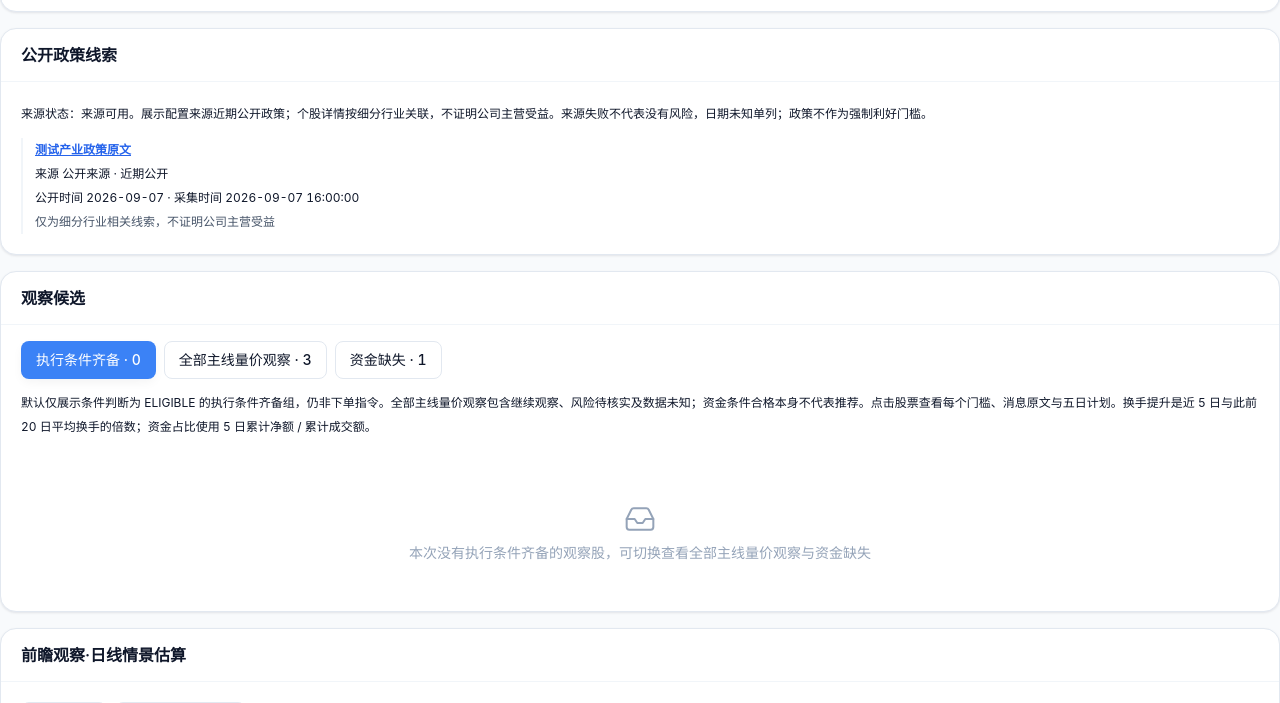
Test: FiveDayPage observation workflow › displays announcement risk and separate evidence publication and collection times
(page scrolled)
Click the button "全部主线量价观察 · 3": (245, 360) [164, 341, 327, 379]
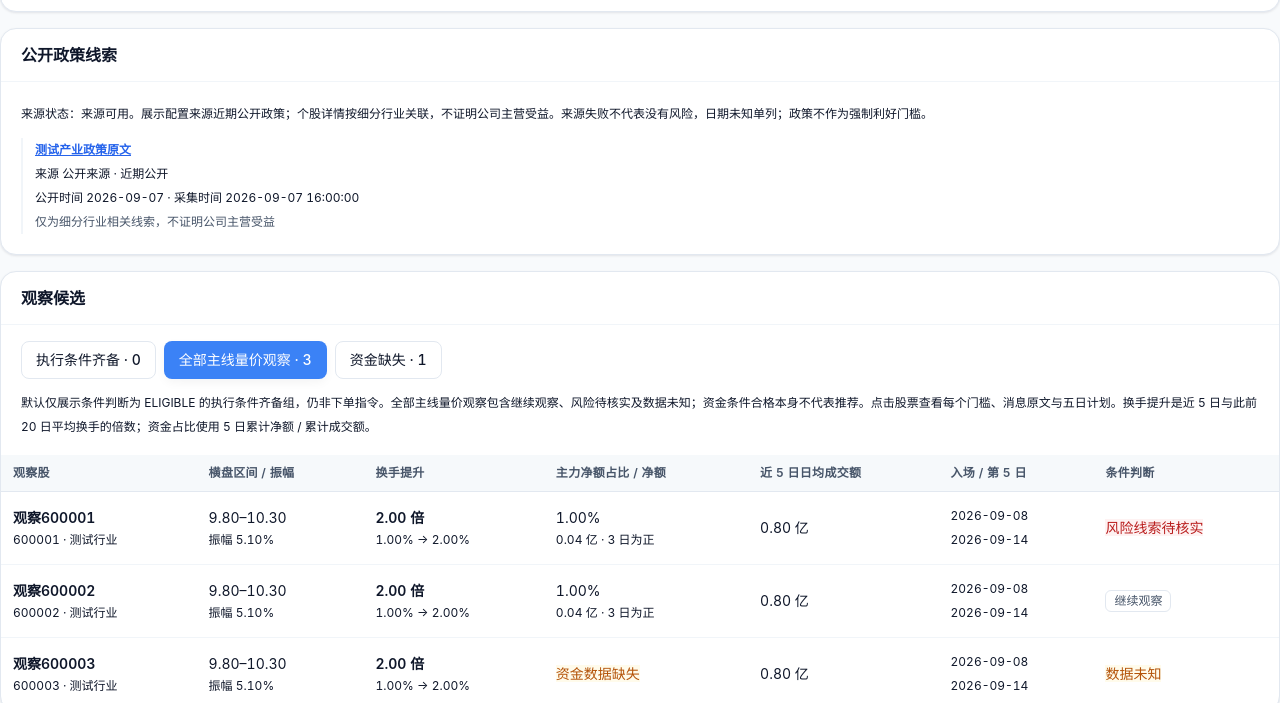
Expected: the row that starts with "观察600001" is shown
Click the row that starts with "观察600001": (640, 528) [1, 492, 1279, 564]
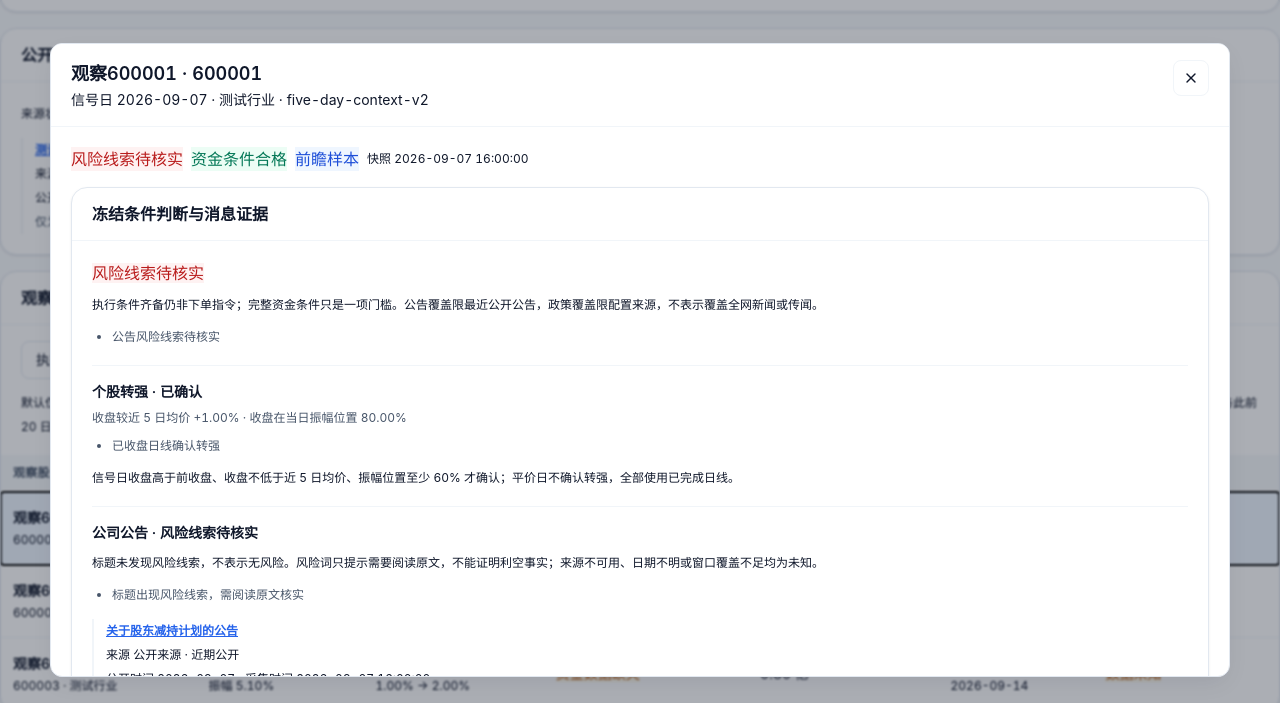
Expected: the text "公开时间 2026-09-07" is shown, [35, 190, 359, 205]
Expected: the text "公告风险线索待核实" is shown, [112, 329, 220, 344]
Expected: the text "关于股东减持计划的公告" is shown, [106, 623, 238, 638]
